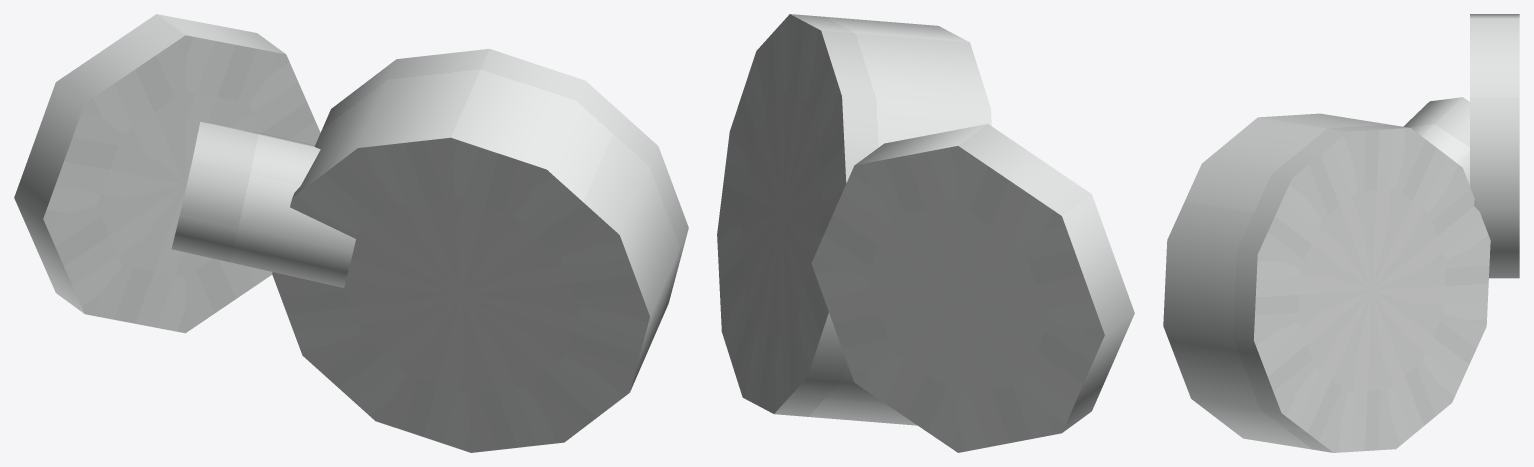
Rendered from nycsignalarm_stub_194.obj.
3 views of the same model, side by side, from view 1: azimuth 30°, elevation 25°; view 2: azimuth 150°, elevation 25°; view 3: azimuth 270°, elevation 25° (orthographic). The views are drawn at different scales.
Parts seen in each view (by area): view 1: nycsignalarm_stub_194; view 2: nycsignalarm_stub_194; view 3: nycsignalarm_stub_194.
Boxes of the visible parts, x1=… form: nycsignalarm_stub_194: x1=14, y1=14, x2=688, y2=452; nycsignalarm_stub_194: x1=717, y1=14, x2=1134, y2=452; nycsignalarm_stub_194: x1=1163, y1=14, x2=1519, y2=452.
Bounding box in the file's own units: 0.6383 × 0.4623 × 0.4432.
